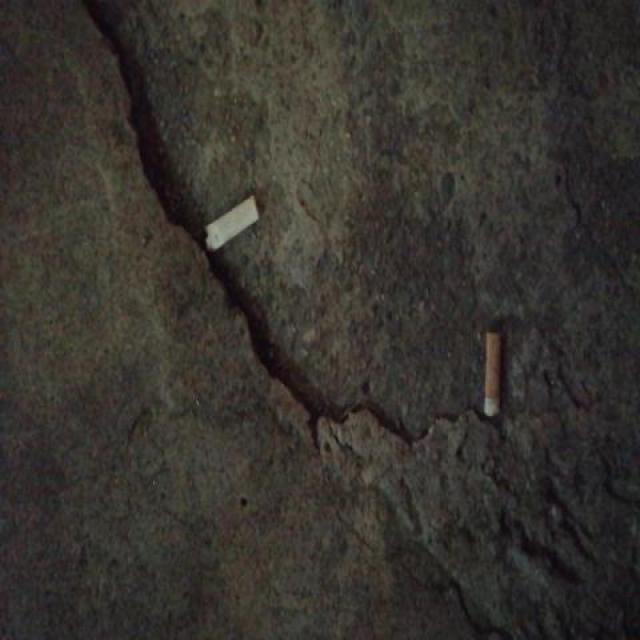non-organic waste: (200, 188, 264, 256), (478, 325, 506, 420)
